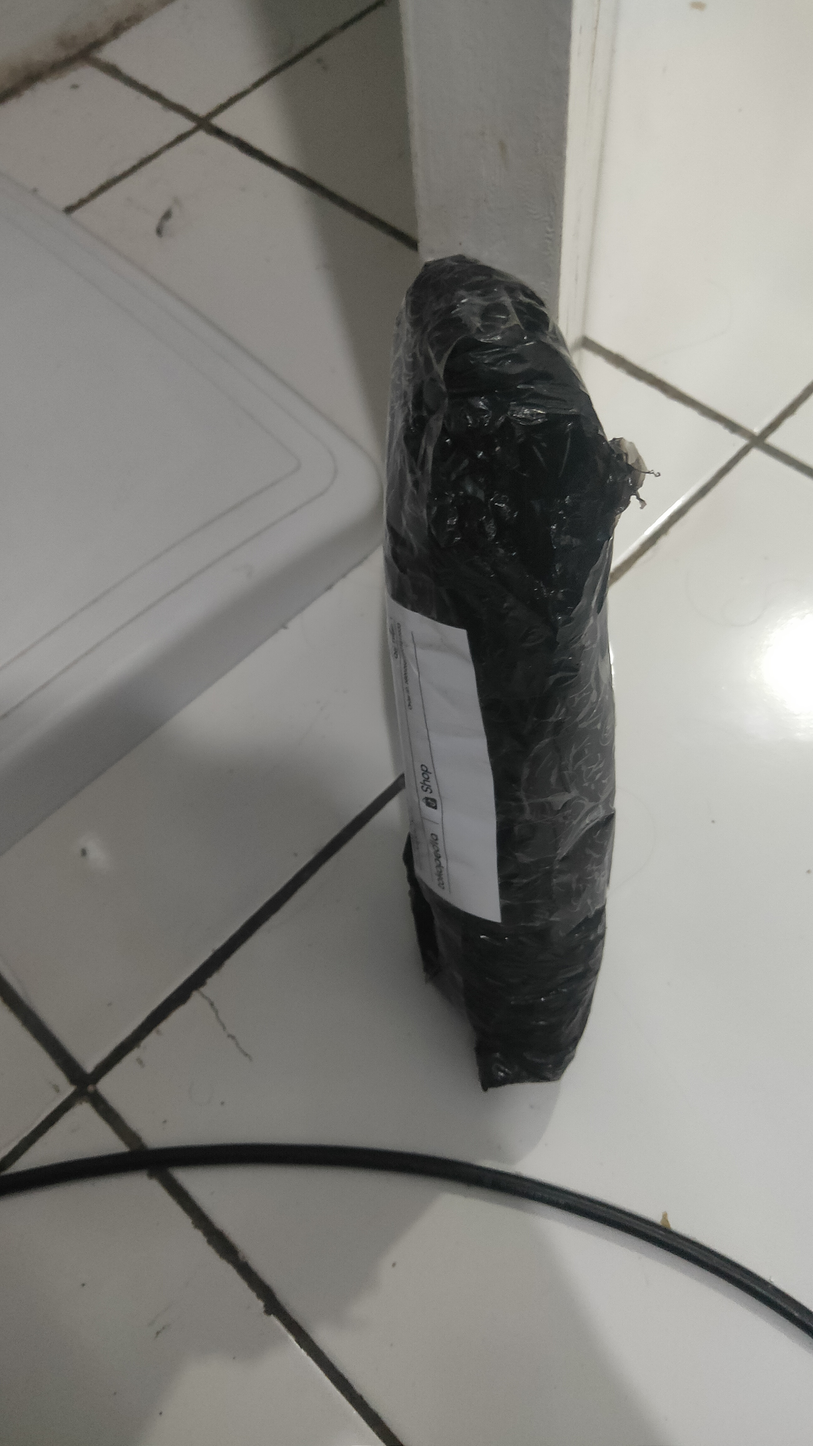damaged package: (448, 419, 632, 606)
undamaged: (382, 257, 646, 1099)
